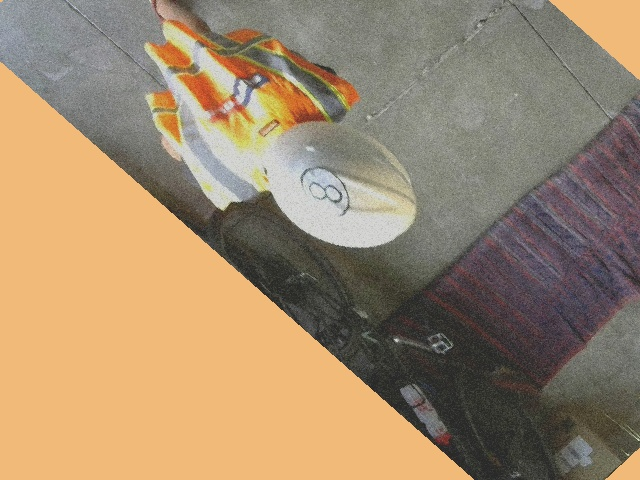eight: (287, 158, 363, 227)
